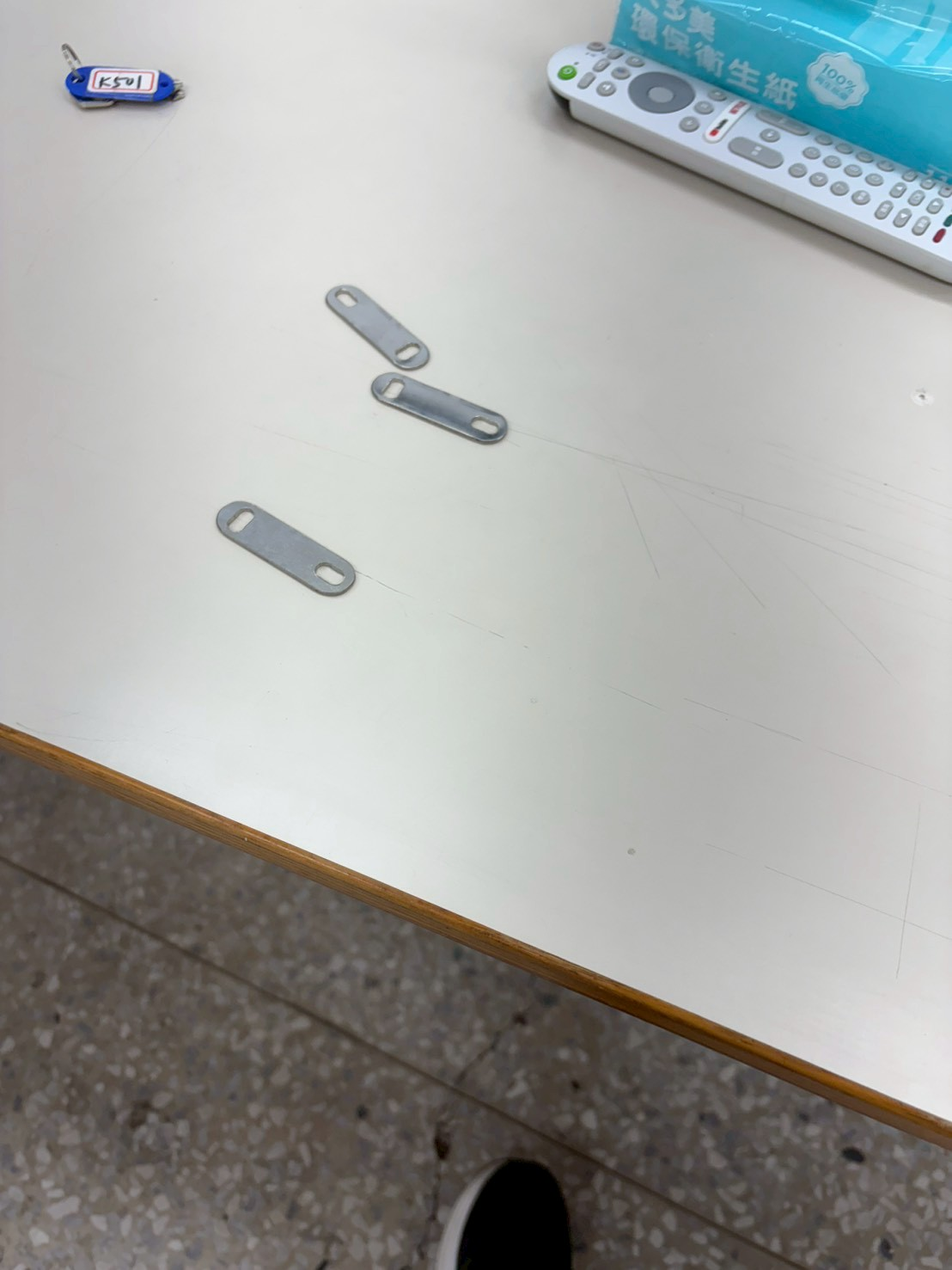Fe: (372, 372, 514, 445), (241, 486, 389, 548), (348, 266, 469, 321)
